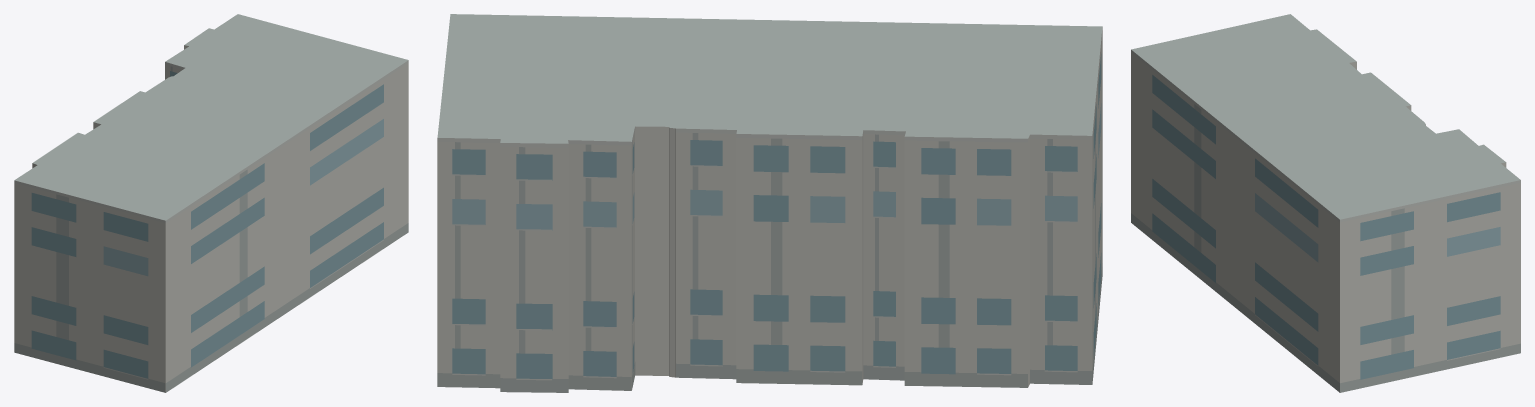
File: survey-upis-32840390.glb
The picture shows the model from 3 angles, left to right: view 1: azimuth 30°, elevation 25°; view 2: azimuth 150°, elevation 25°; view 3: azimuth 270°, elevation 25°; orthographic projection. The views are drawn at different scales.
Visible parts, largest first — view 1: survey-upis-32840390.tmp; view 2: survey-upis-32840390.tmp; view 3: survey-upis-32840390.tmp.
Boxes of the visible parts, x1,y1,x2,y2 form: survey-upis-32840390.tmp: (14, 14, 408, 392); survey-upis-32840390.tmp: (437, 14, 1102, 392); survey-upis-32840390.tmp: (1131, 14, 1520, 392).
Bounding box in the file's own units: 38.85 × 15.25 × 31.12.
